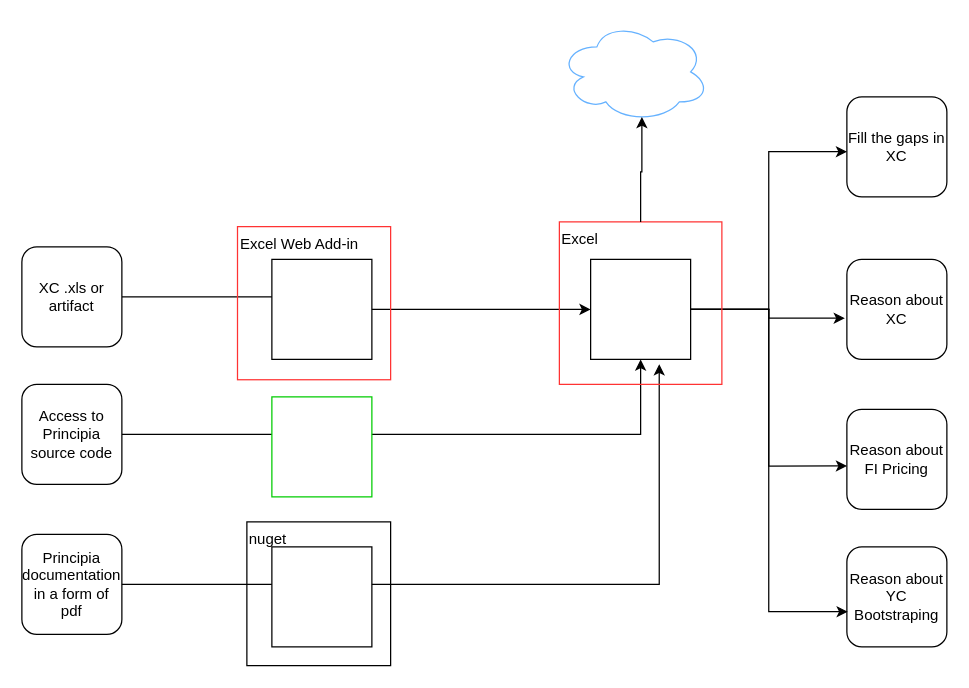
Some shapes in this 969 by 688 pixel diagram are drawn without their labels. The centre of each missing label's shape, as x and y in pixels:
"AI Assitant" goes at (x=640, y=308).
"LLM Model" goes at (x=633, y=71).
"Source code access tool" goes at (x=321, y=446).
"Tool for .xls or whatever XC artifact type" goes at (x=321, y=308).
"Tool for docs (eg RAG)" goes at (x=321, y=596).
